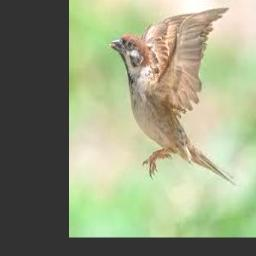Sparrow: (108, 7, 236, 184)
